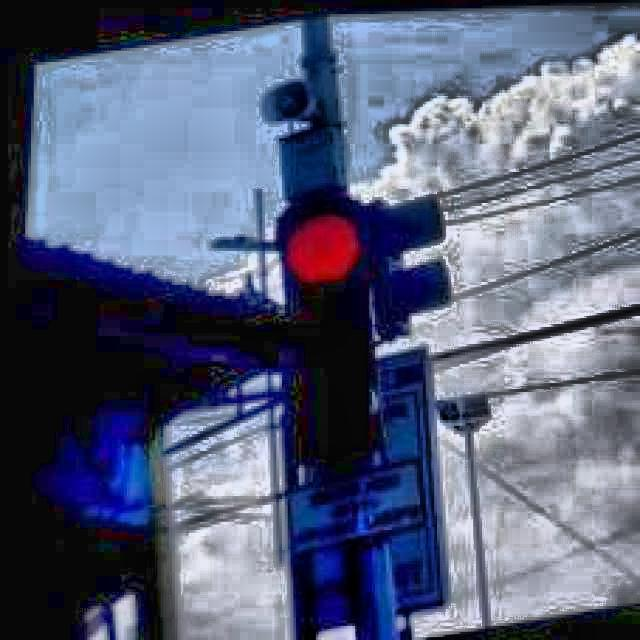red: (252, 182, 396, 466)
